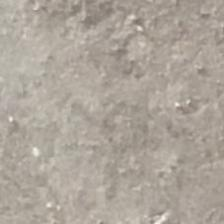Non_Crack: (16, 24, 224, 185)
